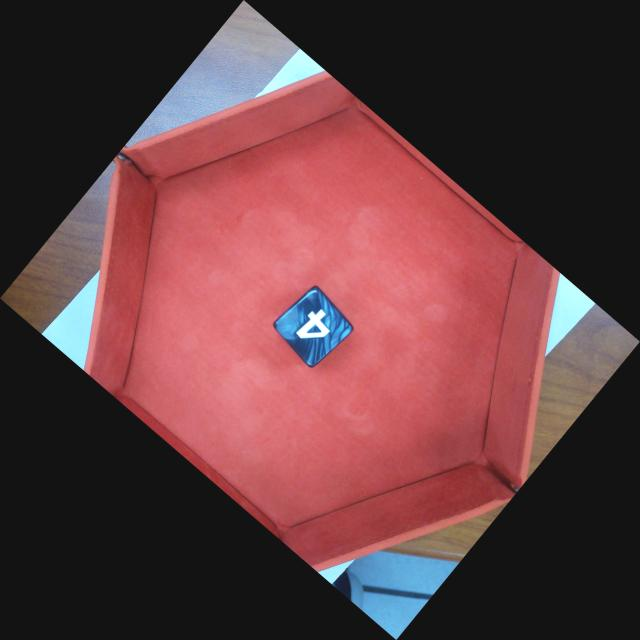dice: (270, 284, 356, 370)
